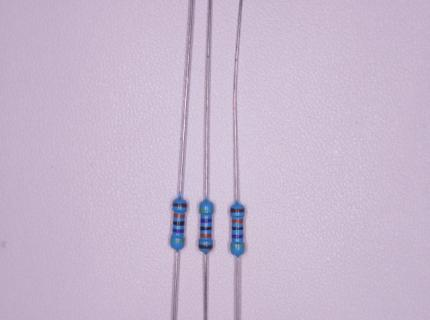Black band: (200, 226, 212, 231), (173, 221, 185, 226), (231, 227, 243, 230)
Brown band: (173, 202, 187, 208), (198, 244, 213, 249), (230, 208, 245, 213)
Orange band: (173, 213, 185, 218), (231, 219, 243, 224), (200, 233, 211, 238)
Violet band: (231, 234, 243, 239), (172, 229, 184, 233), (200, 219, 212, 223)
Yellow band: (230, 244, 245, 249), (199, 209, 214, 213), (170, 239, 184, 243)
